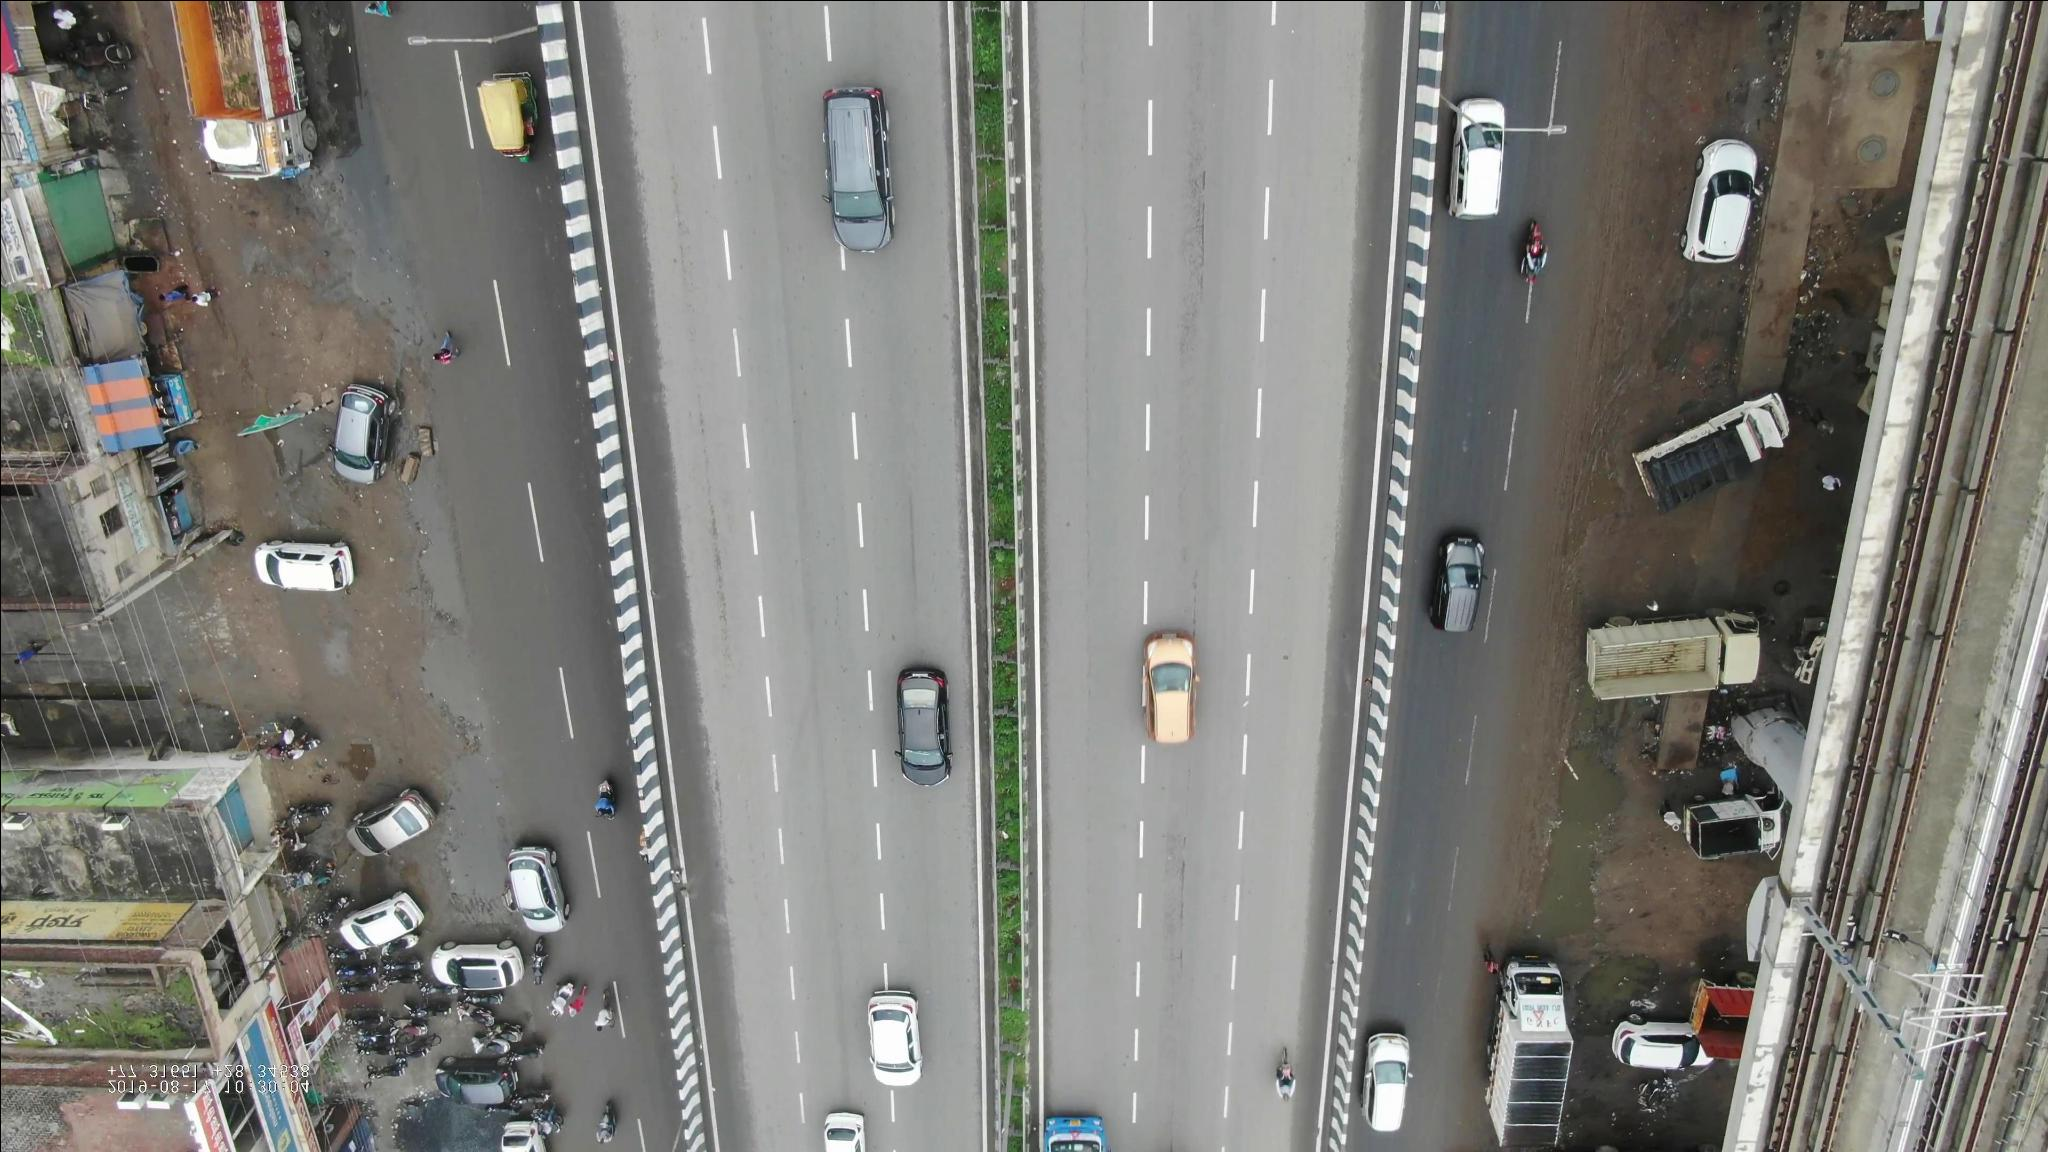Muddy_road: (1589, 281, 1719, 425), (1630, 7, 1772, 117)
Ravelling: (685, 399, 745, 654), (1141, 771, 1196, 1010), (1167, 134, 1215, 370)
Waterlogging: (404, 495, 498, 745), (1544, 748, 1644, 949)
